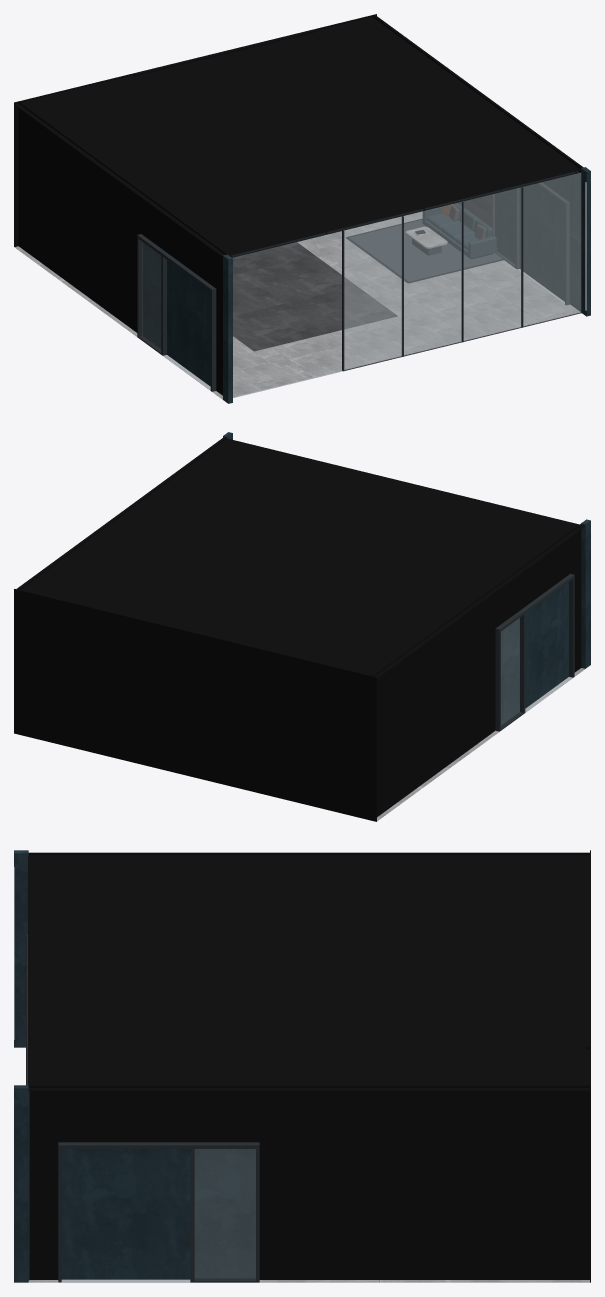
The model's file is room_suv.glb.
The picture shows the model from 3 angles, top to bottom: view 1: azimuth 30°, elevation 25°; view 2: azimuth 150°, elevation 25°; view 3: azimuth 270°, elevation 25°; orthographic projection. The views are drawn at different scales.
Visible parts, largest first — view 1: MTG_Reveals, MTG_Glass_Vitrine, MTG_Floor, MTG_PortalFill_L, MTG_PortalFill_R, MTG_Rug, MTG_Walls, MTG_Sofa, MTG_Glass_PortalL, MTG_Pier_-1, MTG_Pier_1, MTG_Ceiling (+5 smaller); view 2: MTG_Reveals, MTG_PortalFill_L, MTG_Glass_PortalL, MTG_Pier_-1, MTG_PortalL_Mull, MTG_Floor, MTG_PortalL_JambA, MTG_PortalL_Head, MTG_PortalL_JambB; view 3: MTG_Reveals, MTG_PortalFill_R, MTG_Glass_PortalR, MTG_Pier_1, MTG_Pier_-1, MTG_PortalR_Head, MTG_Floor, MTG_PortalR_Mull.
Part boxes in pixels (x1=…): MTG_Reveals: x1=14, y1=14, x2=583, y2=395; MTG_Glass_Vitrine: x1=344, y1=173, x2=580, y2=369; MTG_Floor: x1=14, y1=211, x2=579, y2=399; MTG_PortalFill_L: x1=142, y1=242, x2=210, y2=386; MTG_PortalFill_R: x1=495, y1=184, x2=564, y2=301; MTG_Rug: x1=349, y1=220, x2=502, y2=281; MTG_Walls: x1=458, y1=171, x2=580, y2=310; MTG_Sofa: x1=422, y1=203, x2=496, y2=259; MTG_Glass_PortalL: x1=142, y1=242, x2=160, y2=348; MTG_Pier_-1: x1=223, y1=254, x2=232, y2=403; MTG_Pier_1: x1=581, y1=167, x2=590, y2=316; MTG_Ceiling: x1=230, y1=171, x2=576, y2=257; MTG_Reveals: x1=14, y1=437, x2=584, y2=821; MTG_PortalFill_L: x1=501, y1=582, x2=568, y2=725; MTG_Glass_PortalL: x1=501, y1=618, x2=519, y2=724; MTG_Pier_-1: x1=581, y1=519, x2=590, y2=668; MTG_PortalL_Mull: x1=519, y1=614, x2=525, y2=713; MTG_Floor: x1=377, y1=668, x2=584, y2=821; MTG_PortalL_JambA: x1=495, y1=631, x2=500, y2=731; MTG_PortalL_Head: x1=495, y1=574, x2=574, y2=632; MTG_PortalL_JambB: x1=569, y1=578, x2=574, y2=677; MTG_Reveals: x1=28, y1=850, x2=590, y2=1282; MTG_PortalFill_R: x1=61, y1=1149, x2=255, y2=1279; MTG_Glass_PortalR: x1=195, y1=1149, x2=255, y2=1277; MTG_Pier_1: x1=14, y1=1085, x2=28, y2=1282; MTG_Pier_-1: x1=14, y1=850, x2=28, y2=1047; MTG_PortalR_Head: x1=58, y1=1142, x2=259, y2=1148; MTG_Floor: x1=28, y1=1280, x2=589, y2=1282; MTG_PortalR_Mull: x1=190, y1=1149, x2=194, y2=1282.
Size of the model in its own units: 13 by 4.95 by 13.32.
Materials: 25 (6 with a texture image).
